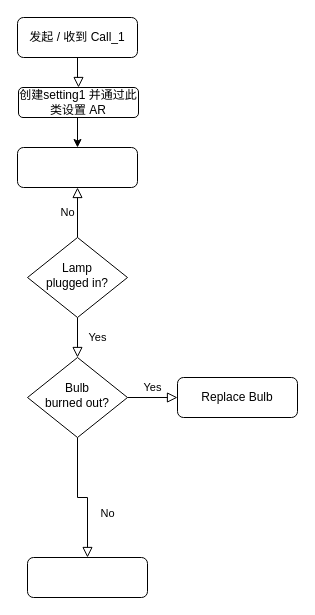
The diagram is 315 pixels wide and 615 high, and some of its shapes have lost their labels. The shapes that lost their labels are listed below. From the top down, each one's box as (x1, y1, x2, y2) in pixels, then its label:
(16, 146, 138, 188): 收到 Call_2
(26, 556, 148, 598): Repair Lamp
